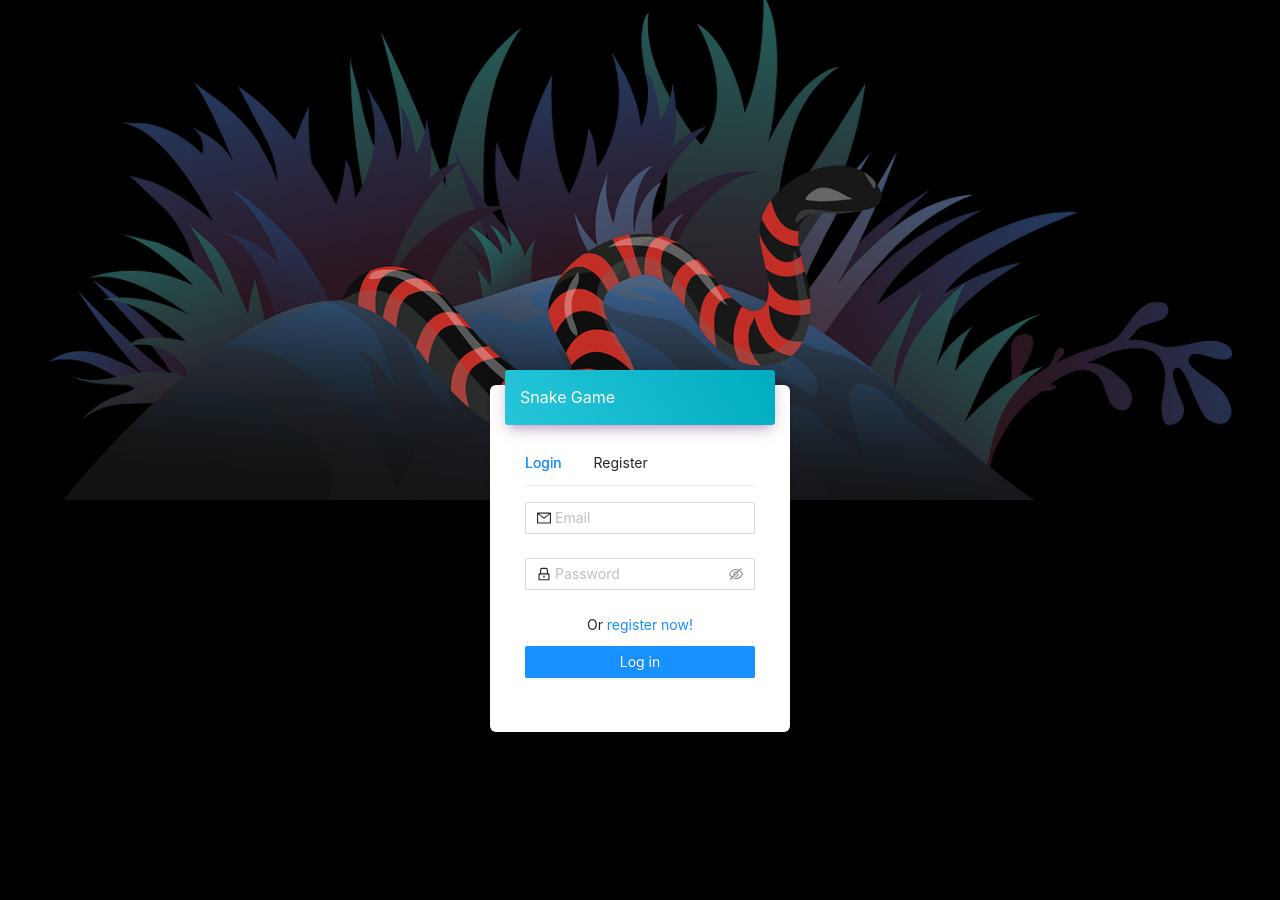
Test case: Validate mandatory fields
Check: the text "Please input your Password!" is not shown
Click the button "Log in".
click(640, 662)  # box [525, 646, 755, 678]
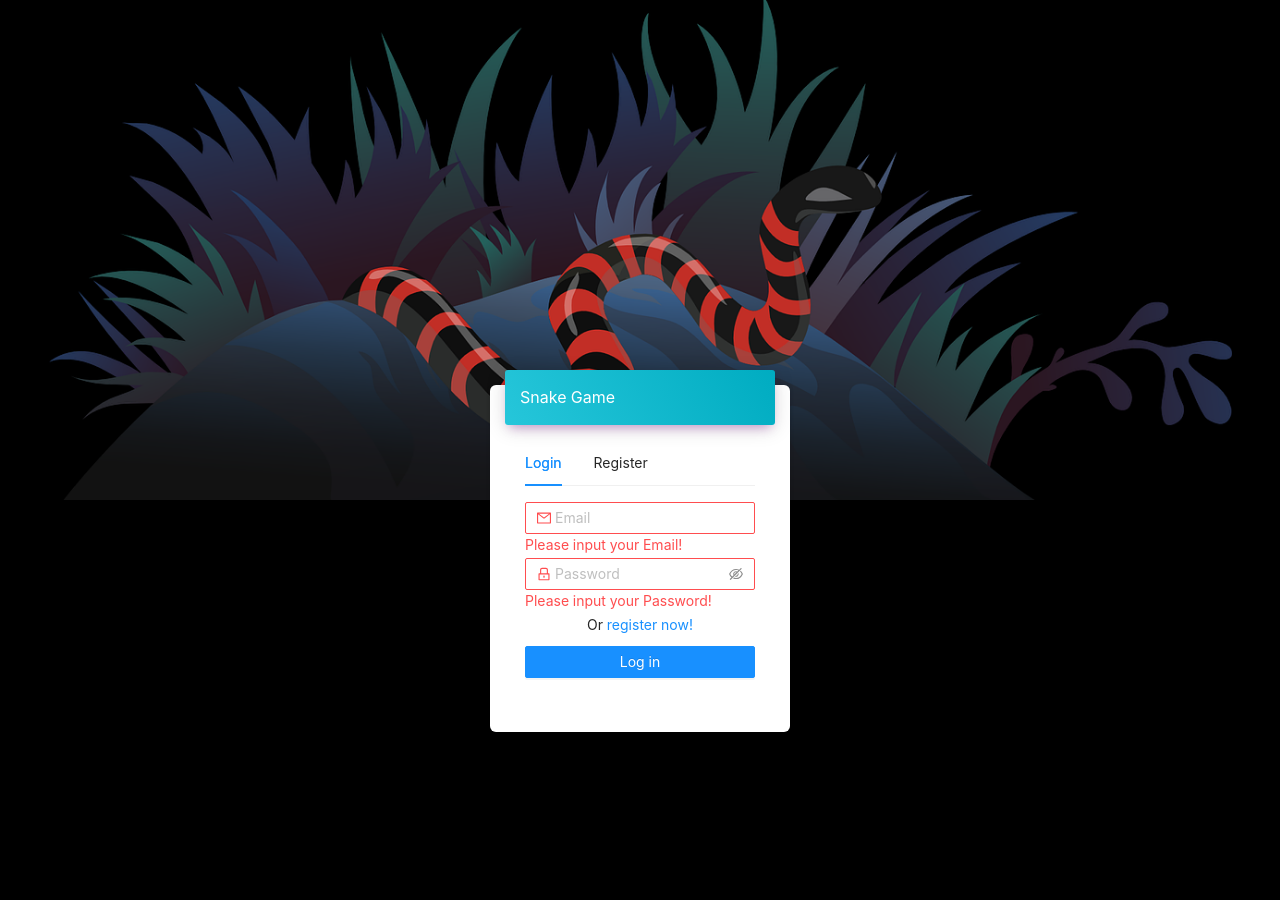
Check: the text "Please input your Email!" is shown, box [525, 536, 682, 553]
Check: the text "Please input your Password!" is shown, box [525, 592, 712, 609]
